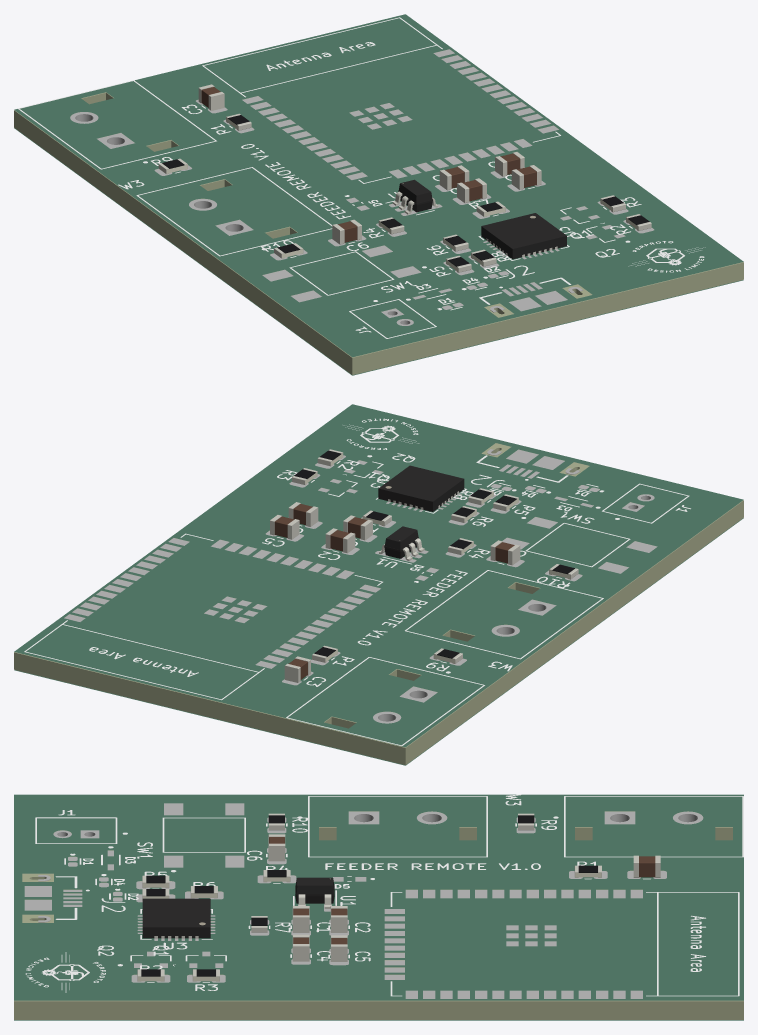
File: board.glb
3 renders of one model, top to bottom at view 1: azimuth 30°, elevation 25°; view 2: azimuth 150°, elevation 25°; view 3: azimuth 270°, elevation 25°, orthographic. The views are drawn at different scales.
Visible parts, largest first — view 1: =>[0:1:1:12], =>[0:1:1:14], =>[0:1:1:10], =>[0:1:1:11], =>[0:1:1:9], =>[0:1:1:5] (×2), =>[0:1:1:7], =>[0:1:1:13]; view 2: =>[0:1:1:12], =>[0:1:1:14], =>[0:1:1:10], =>[0:1:1:11], =>[0:1:1:9], =>[0:1:1:5] (×3), =>[0:1:1:7], =>[0:1:1:13]; view 3: =>[0:1:1:12], =>[0:1:1:14], =>[0:1:1:10], =>[0:1:1:11], =>[0:1:1:5] (×6), =>[0:1:1:9], =>[0:1:1:7], =>[0:1:1:13].
Part boxes in pixels (x1,y1,x2,y2): =>[0:1:1:12]: [14, 14, 743, 357]; =>[0:1:1:14]: [14, 51, 743, 374]; =>[0:1:1:10]: [70, 49, 654, 325]; =>[0:1:1:11]: [18, 17, 705, 338]; =>[0:1:1:9]: [481, 213, 566, 259]; =>[0:1:1:5] (×2): [332, 165, 541, 244]; =>[0:1:1:7]: [392, 179, 438, 214]; =>[0:1:1:13]: [14, 128, 743, 375]; =>[0:1:1:12]: [14, 404, 743, 747]; =>[0:1:1:14]: [14, 443, 743, 764]; =>[0:1:1:10]: [64, 449, 657, 723]; =>[0:1:1:11]: [24, 418, 690, 745]; =>[0:1:1:9]: [378, 465, 464, 511]; =>[0:1:1:5] (×3): [270, 515, 520, 565]; =>[0:1:1:7]: [379, 526, 424, 561]; =>[0:1:1:13]: [14, 518, 743, 765]; =>[0:1:1:12]: [14, 794, 743, 1000]; =>[0:1:1:14]: [14, 811, 743, 1019]; =>[0:1:1:10]: [24, 803, 703, 998]; =>[0:1:1:11]: [25, 794, 743, 996]; =>[0:1:1:5] (×6): [268, 834, 660, 961]; =>[0:1:1:9]: [142, 898, 210, 938]; =>[0:1:1:7]: [295, 877, 334, 908]; =>[0:1:1:13]: [14, 1020, 743, 1020].
Bounding box in the file's own units: 0.0358 × 0.0032 × 0.0536.
